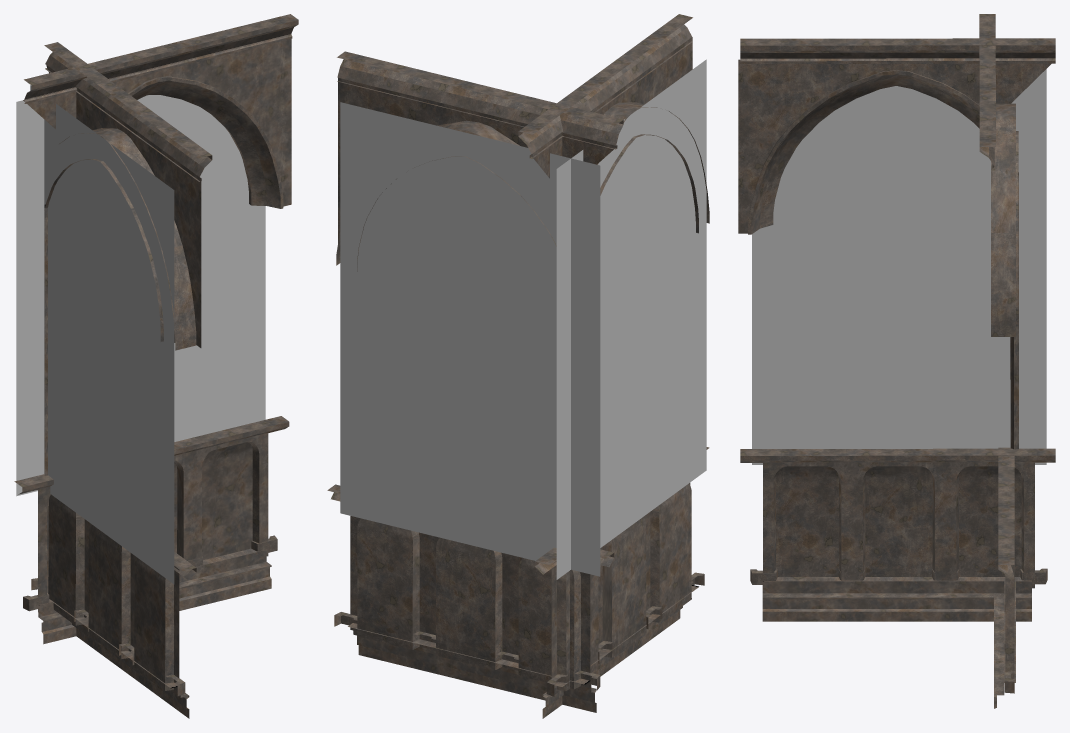
Rendered from SD2_Wallcorner_lp.fbx.
The picture shows the model from 3 angles, left to right: view 1: azimuth 30°, elevation 25°; view 2: azimuth 150°, elevation 25°; view 3: azimuth 270°, elevation 25°; orthographic projection. The views are drawn at different scales.
Parts seen in each view (by area): view 1: SD2_wallcorner; view 2: SD2_wallcorner; view 3: SD2_wallcorner.
Part boxes in pixels (box(x1,y1,x2,y2)): SD2_wallcorner: box(14, 14, 298, 718); SD2_wallcorner: box(327, 14, 709, 718); SD2_wallcorner: box(738, 14, 1055, 708).
Size of the model in its own units: 200 by 200 by 405.
